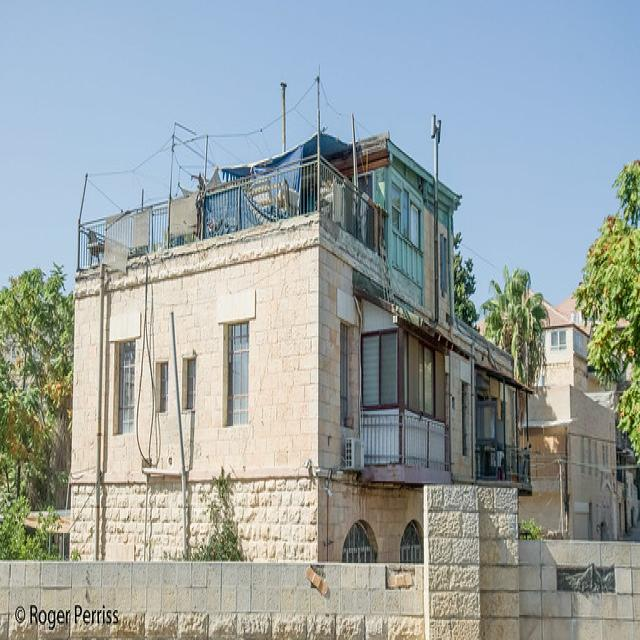building: (66, 122, 535, 565)
